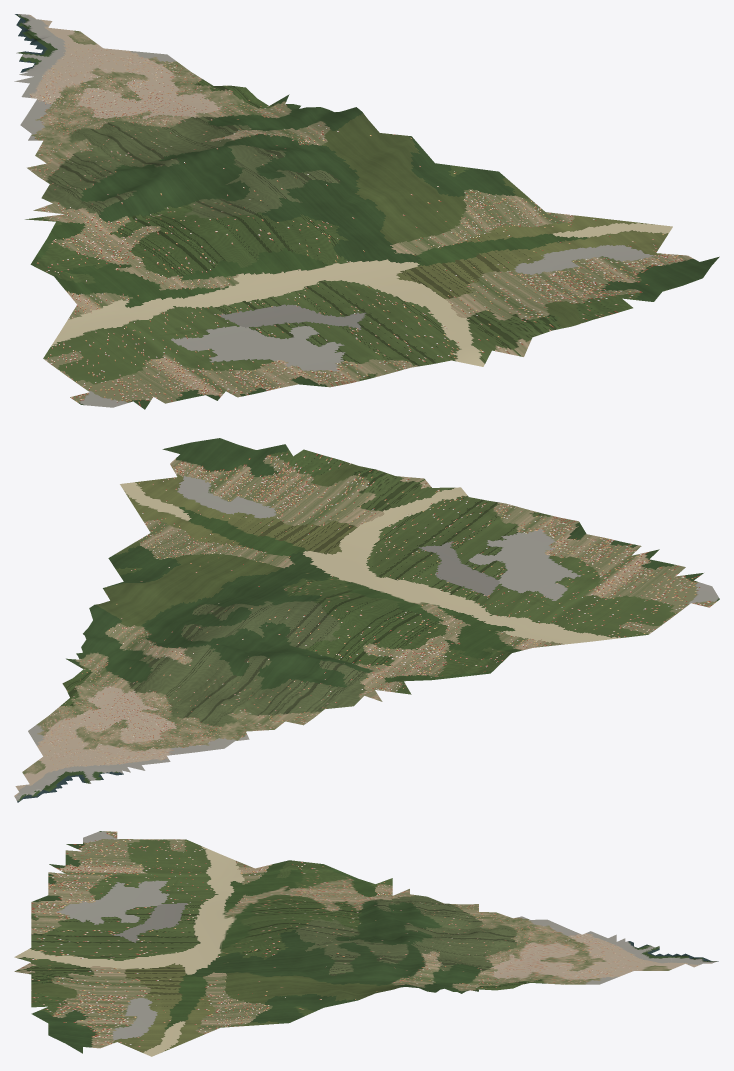
The model's file is SM_Fondale_Colline_NE_v3_LOD2.fbx.
3 renders of one model, top to bottom at view 1: azimuth 30°, elevation 25°; view 2: azimuth 150°, elevation 25°; view 3: azimuth 270°, elevation 25°, orthographic. The views are drawn at different scales.
Parts seen in each view (by area): view 1: SM_Fondale_Colline_NE_v3_LOD2; view 2: SM_Fondale_Colline_NE_v3_LOD2; view 3: SM_Fondale_Colline_NE_v3_LOD2.
Part boxes in pixels (left/top/right/bottom): SM_Fondale_Colline_NE_v3_LOD2: left=14, top=14, right=719, bottom=409; SM_Fondale_Colline_NE_v3_LOD2: left=14, top=438, right=719, bottom=802; SM_Fondale_Colline_NE_v3_LOD2: left=14, top=831, right=718, bottom=1056.
Bounding box in the file's own units: 744000 × 984000 × 32760.
Materials: 1 (1 with a texture image).
